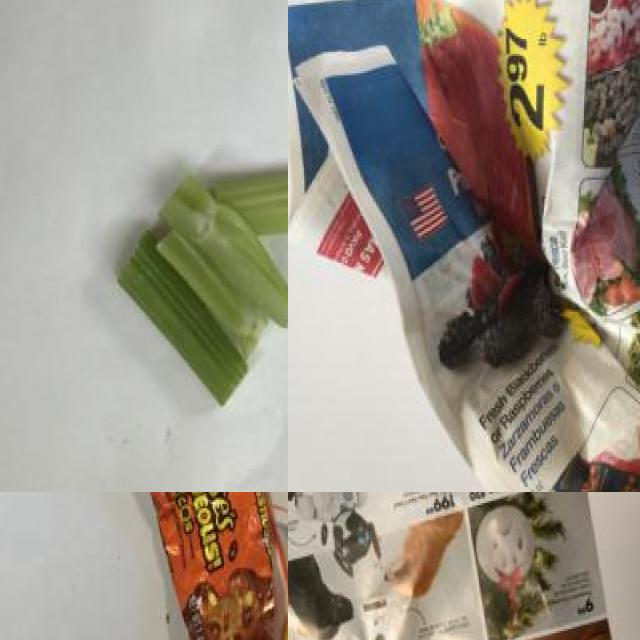compost: (118, 146, 288, 415)
paper: (288, 0, 640, 492), (288, 492, 640, 640)
trash: (91, 492, 288, 640)
